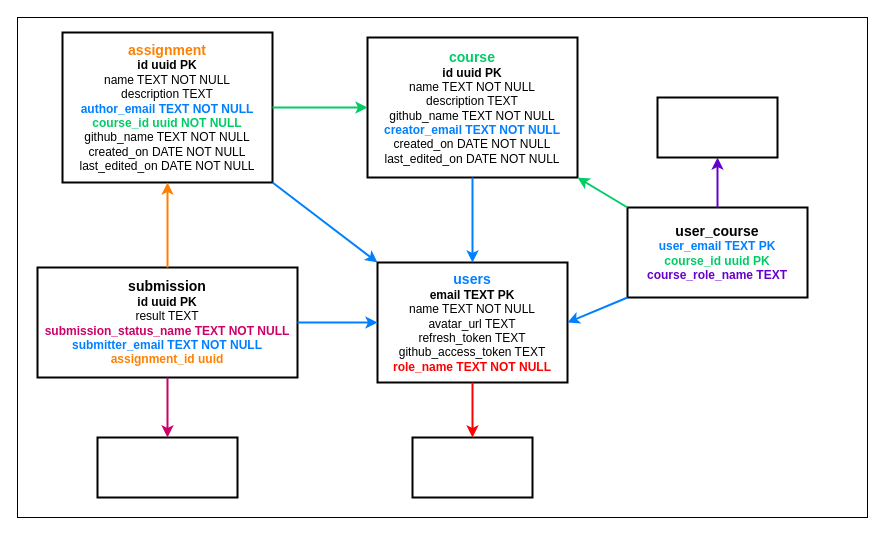
Some shapes in this 885 by 535 pixel diagram are drawn without their labels. Each missing label, with the box of its shape:
course_role name TEXT PK: (656, 96, 778, 158)
role name TEXT PK: (411, 436, 533, 498)
submission_status name TEXT PK: (96, 436, 238, 498)
